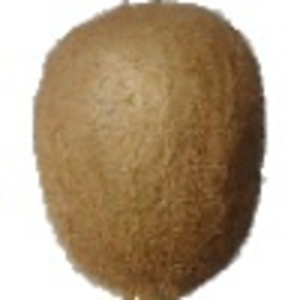kiwi: (31, 1, 268, 300)
